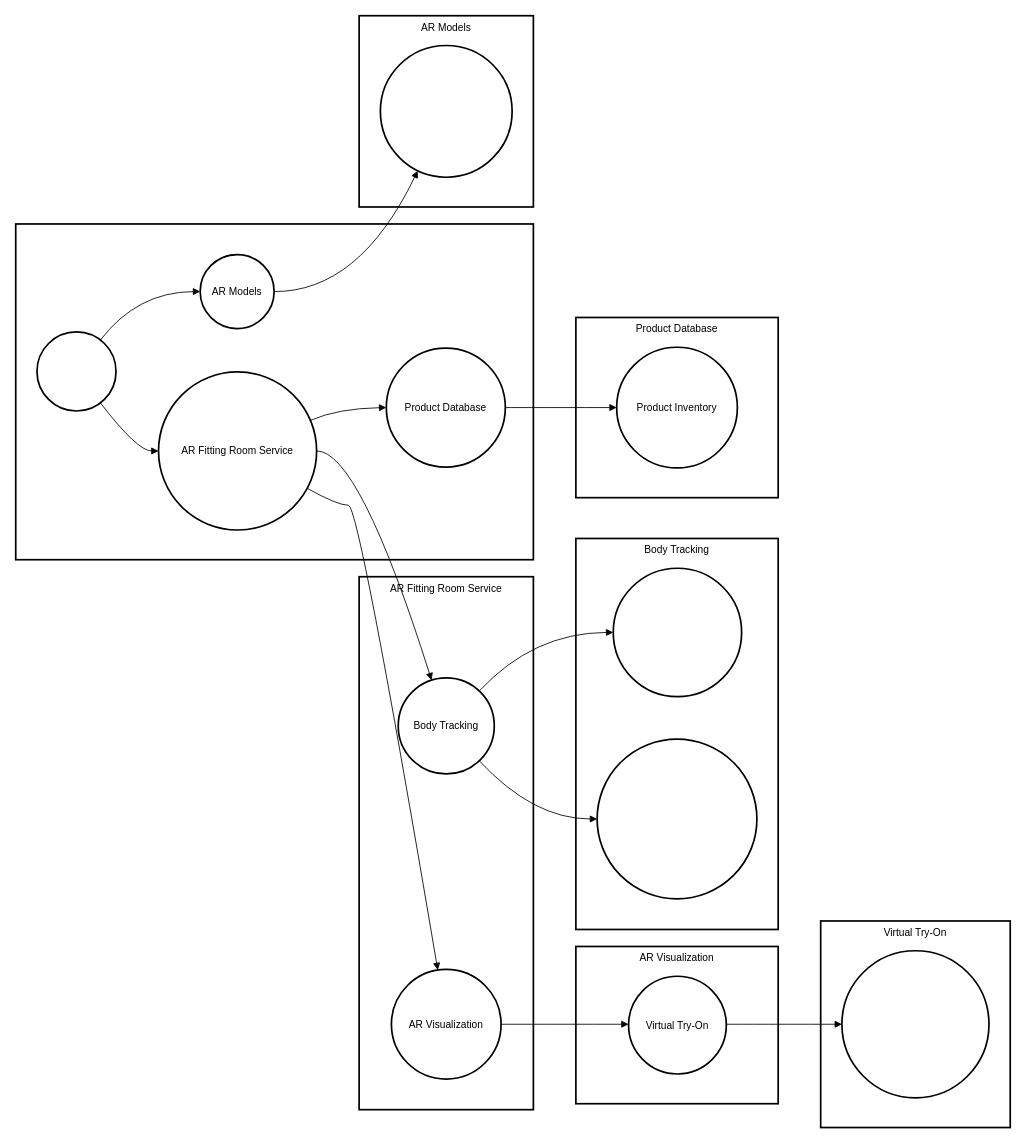
The diagram is 1025 pixels wide and 1142 high, and some of its shapes have lost their labels. Each missing label, with the box of its shape:
3D Clothing Rendering: (841, 949, 989, 1098)
Clothing Size Estimation: (596, 738, 757, 899)
Garment Templates: (379, 44, 513, 178)
Main System Components: (14, 223, 534, 560)
Mobile App: (36, 331, 116, 411)
Skeleton Detection: (612, 567, 742, 697)
